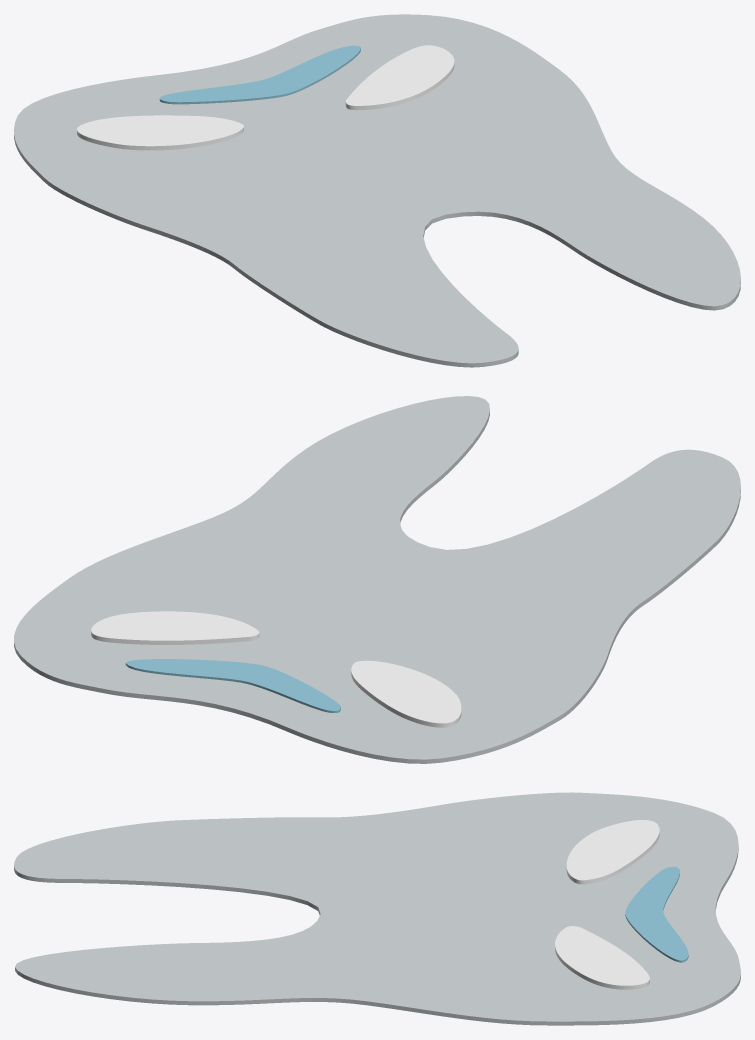
Rendered from emoji_u1f9b7.glb.
3 renders of one model, top to bottom at view 1: azimuth 30°, elevation 25°; view 2: azimuth 150°, elevation 25°; view 3: azimuth 270°, elevation 25°, orthographic. The views are drawn at different scales.
Visible parts, largest first — view 1: emoji_u1f9b7; view 2: emoji_u1f9b7; view 3: emoji_u1f9b7.
Part boxes in pixels (left/top/right/bottom): emoji_u1f9b7: left=14, top=14, right=740, bottom=367; emoji_u1f9b7: left=14, top=396, right=740, bottom=763; emoji_u1f9b7: left=14, top=792, right=740, bottom=1025.
Size of the model in its own units: 0.0246 by 0.0006 by 0.033.
